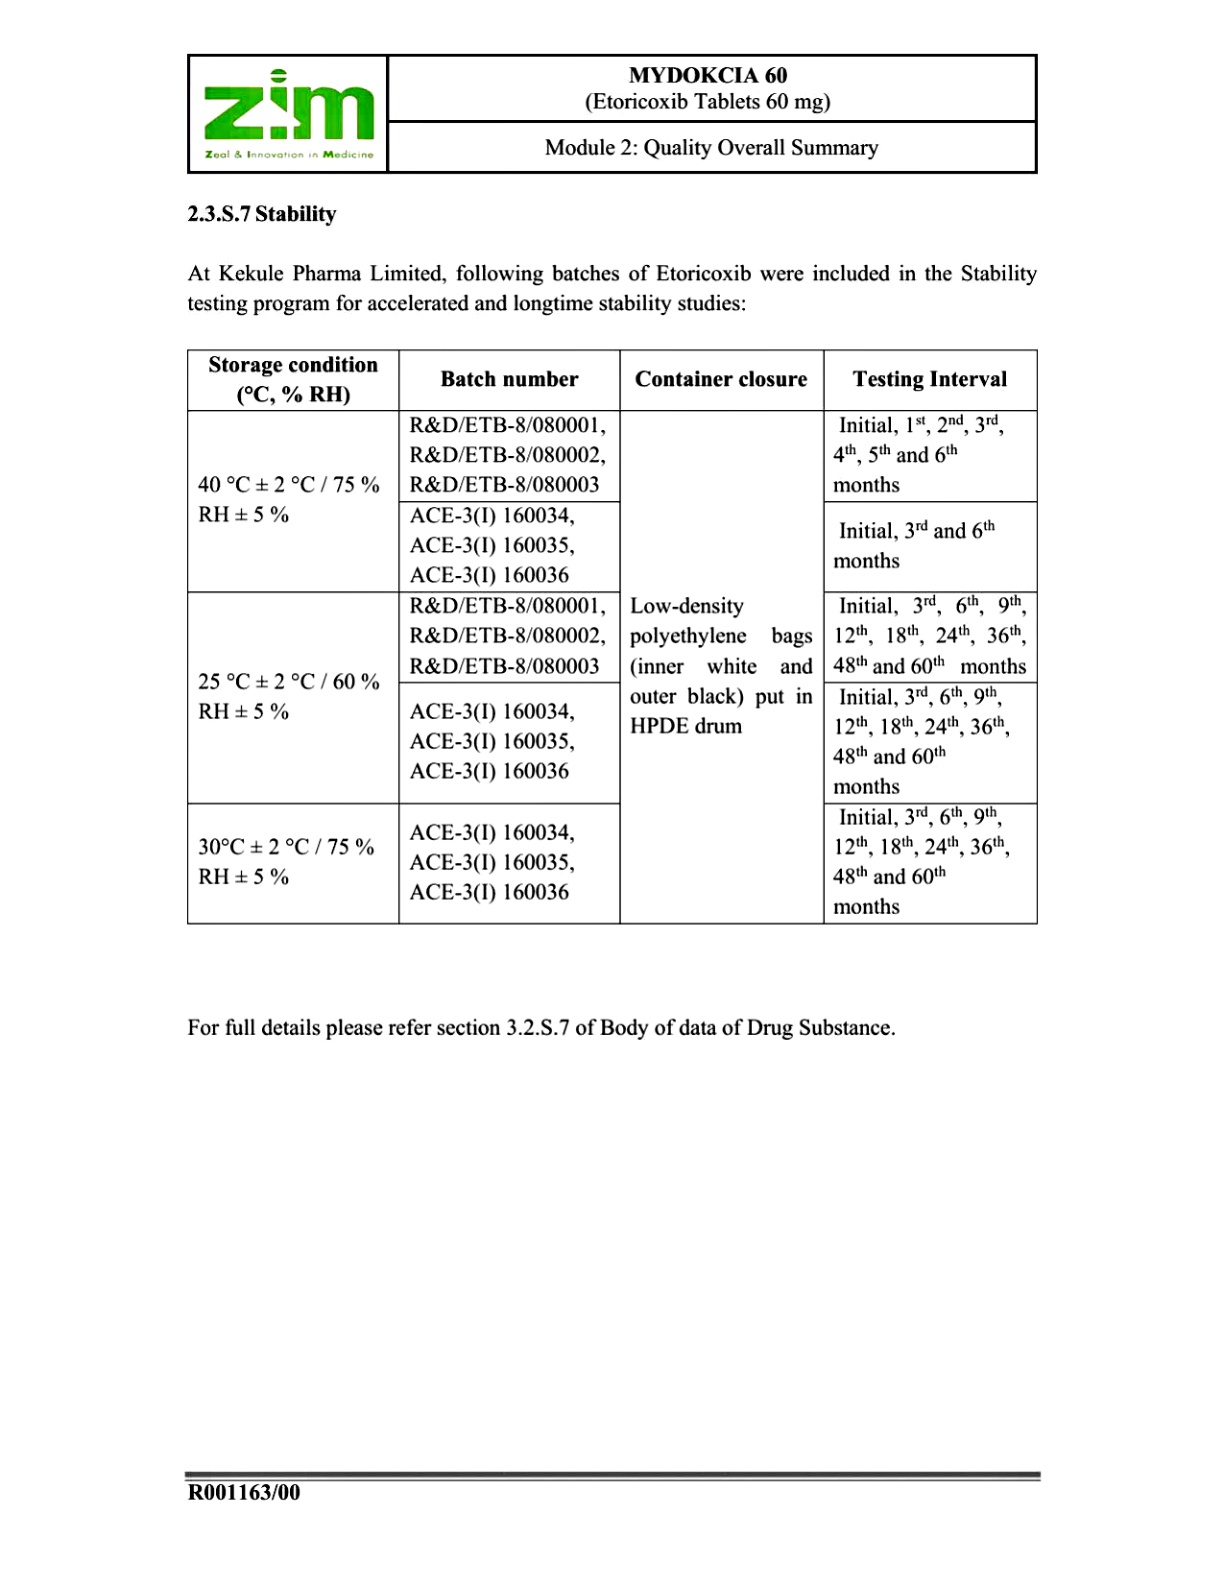merged_cells: (186, 348, 1039, 925), (186, 54, 1039, 175)
